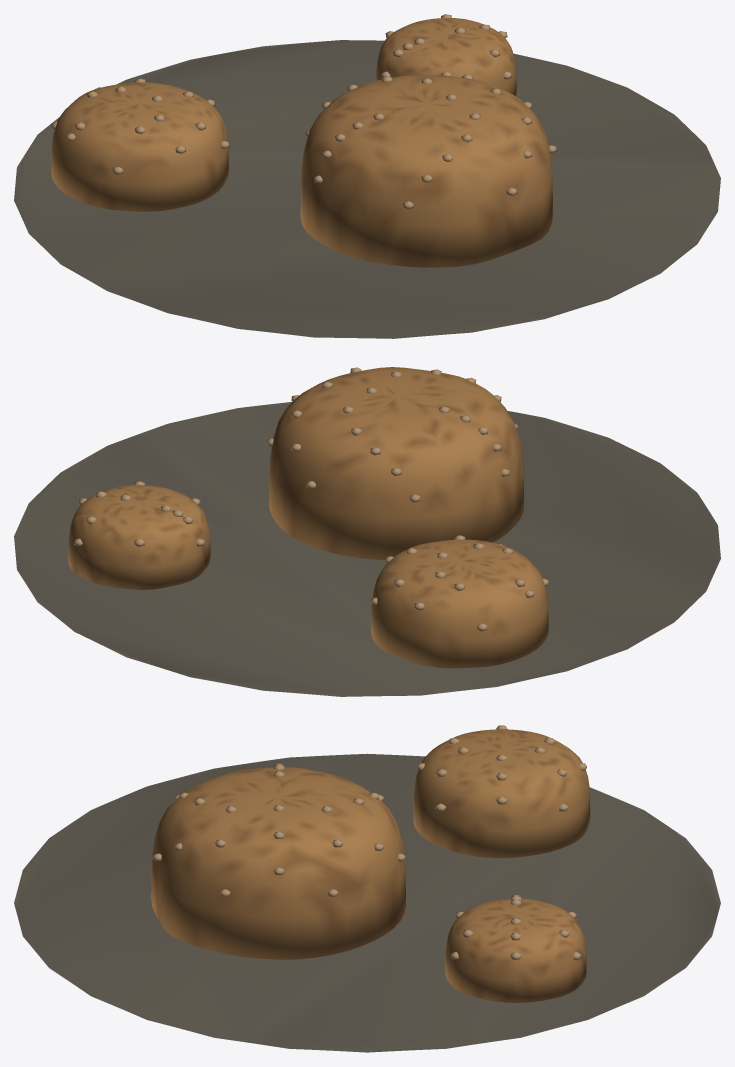
Rendered from PrasoporaSimulatrix.fbx.
3 renders of one model, top to bottom at view 1: azimuth 30°, elevation 25°; view 2: azimuth 150°, elevation 25°; view 3: azimuth 270°, elevation 25°, orthographic.
Parts seen in each view (by area): view 1: PrasoporaSimulatrix; view 2: PrasoporaSimulatrix; view 3: PrasoporaSimulatrix.
Part boxes in pixels (<box>): PrasoporaSimulatrix: <box>14,14,720,338</box>; PrasoporaSimulatrix: <box>14,367,720,696</box>; PrasoporaSimulatrix: <box>14,725,720,1052</box>.
Bounding box in the file's own units: 2 × 0.3664 × 2.
